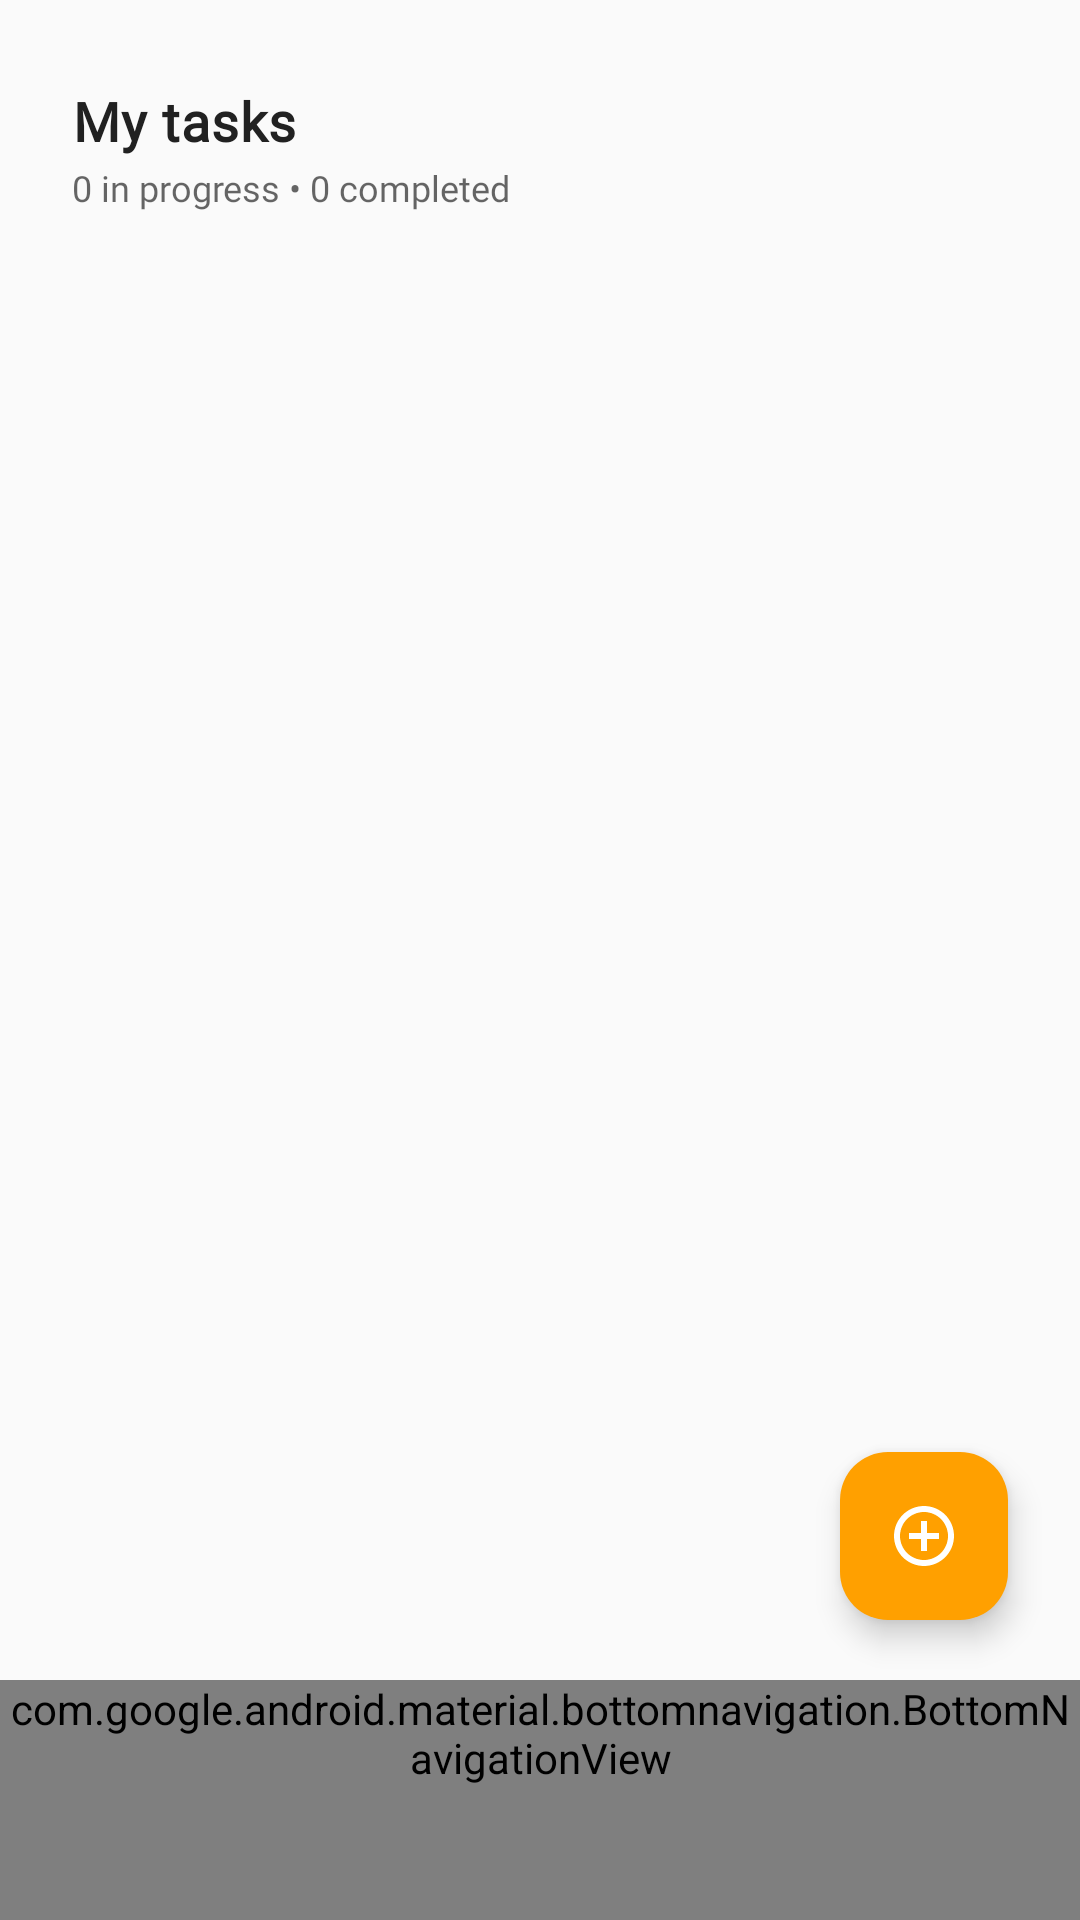

Point at icon controls on the screen. Image size 1080 × 1920, points as (x=x, y=y).
Add Task: (x=924, y=1536)
